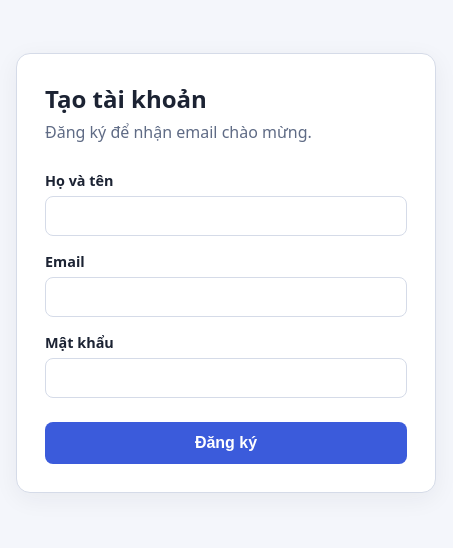
Test: App (form đăng ký) › F-02 form trống: hiển thị lỗi từng trường và không gọi API
This screenshot has width=453, height=548.
Click the button "Đăng ký": (226, 443) [45,422,407,464]
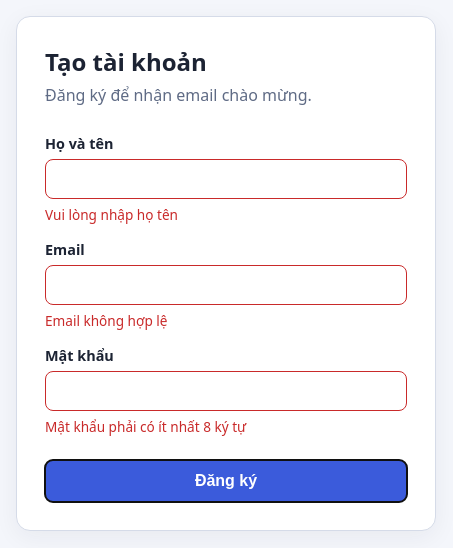
expect the text "Vui lòng nhập họ tên" is shown: met, box [45,204,178,224]
expect the text "Email không hợp lệ" is shown: met, box [45,310,168,330]
expect the text "Mật khẩu phải có ít nhất 8 ký tự" is shown: met, box [45,416,246,436]
